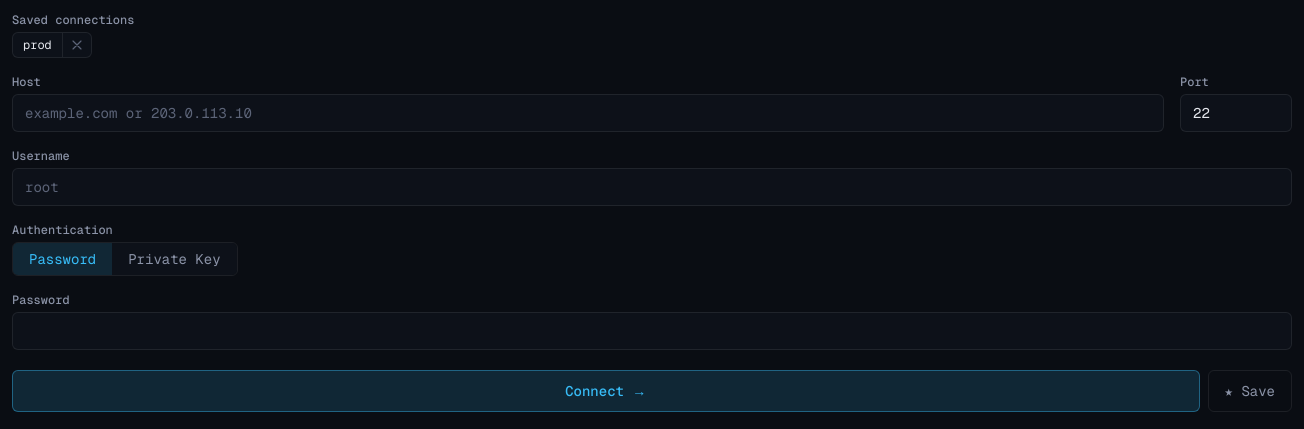
ConnectForm saved profiles › renders saved profiles and loads one into the fields (no password)
The width and height of the screenshot is (1304, 429).
Click the button "prod" at coordinates (37, 45), box [13,33,62,57]
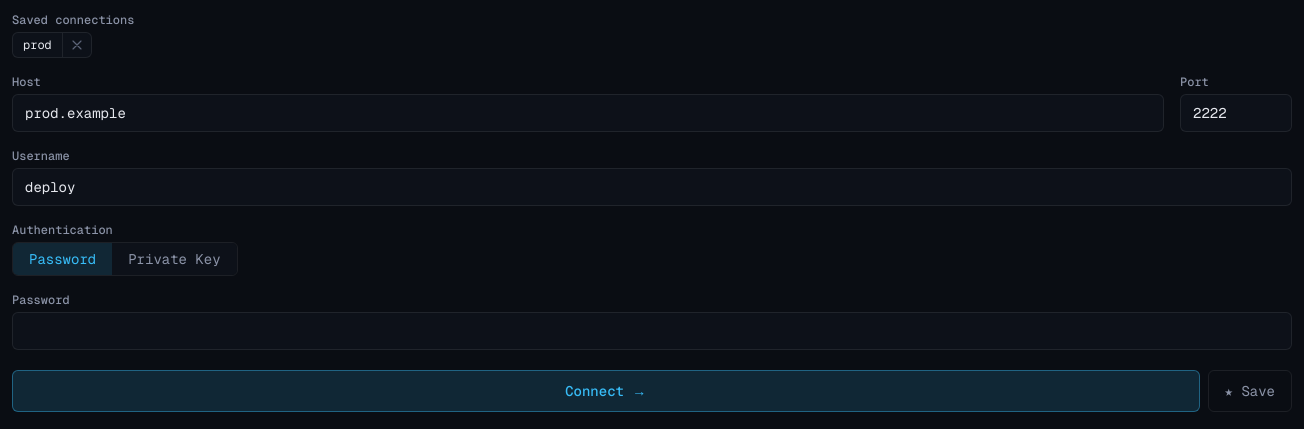
expect the field labelled "Host" holds "prod.example": met, box [12,94,1164,132]
expect the field labelled "Port" holds "2222": met, box [1180,94,1292,132]
expect the field labelled "Username" holds "deploy": met, box [12,168,1292,206]
